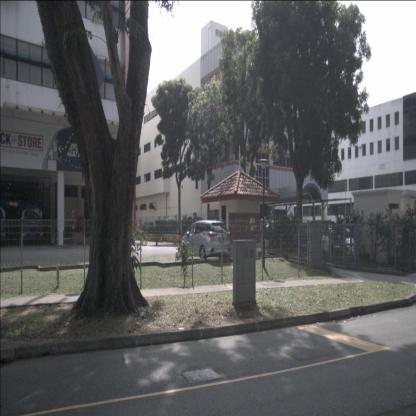human-pedestrian-adult: (321, 229, 331, 270)
vehicle-car: (180, 219, 230, 260), (310, 221, 344, 249), (143, 222, 154, 232), (133, 223, 142, 230)
vehicle-truck: (21, 198, 44, 245), (0, 198, 21, 246)
